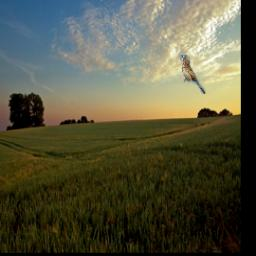Sparrow: (181, 54, 207, 94)
